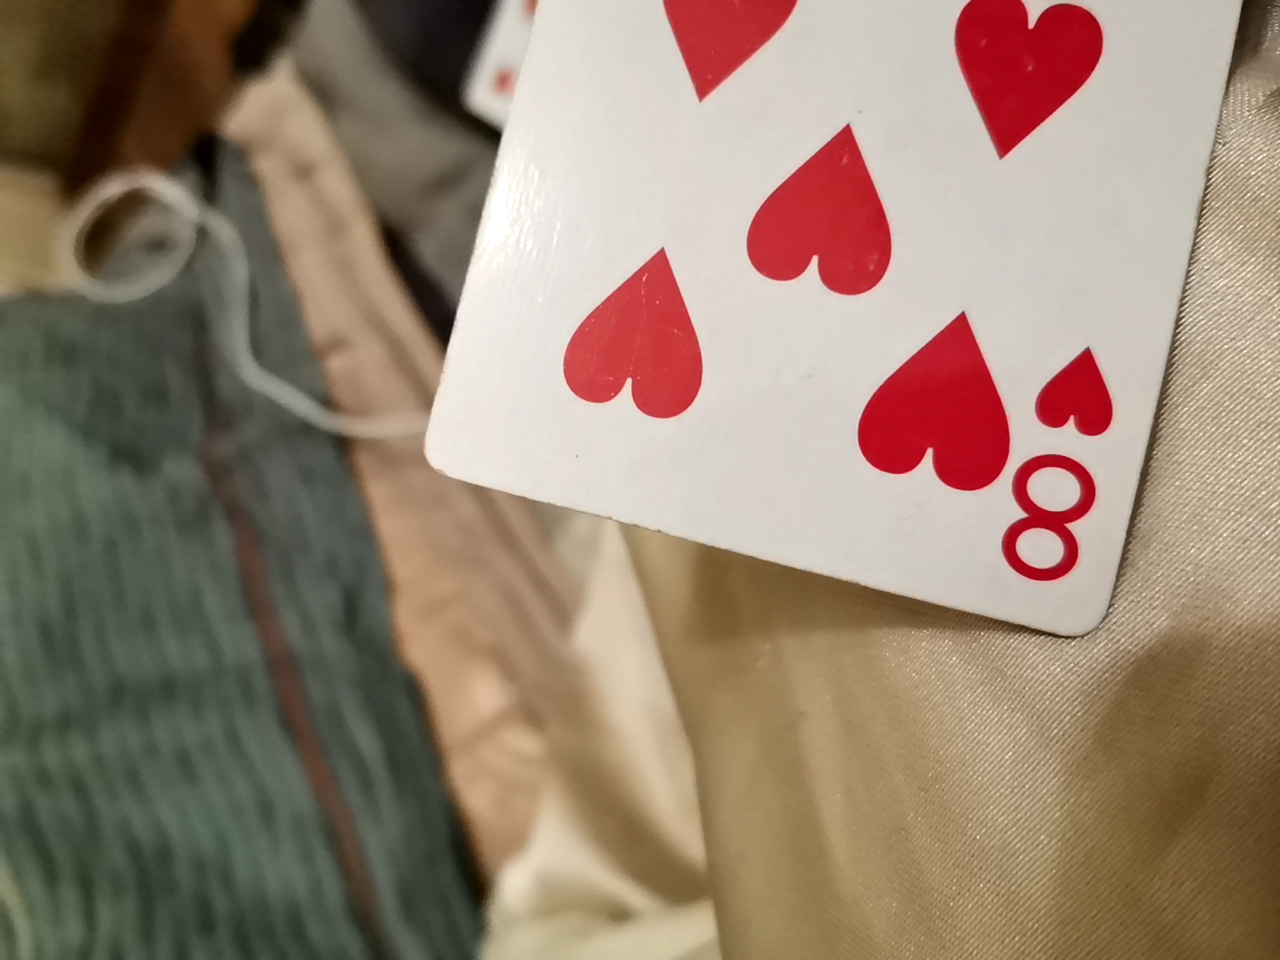hx 8: (423, 0, 1270, 649)
